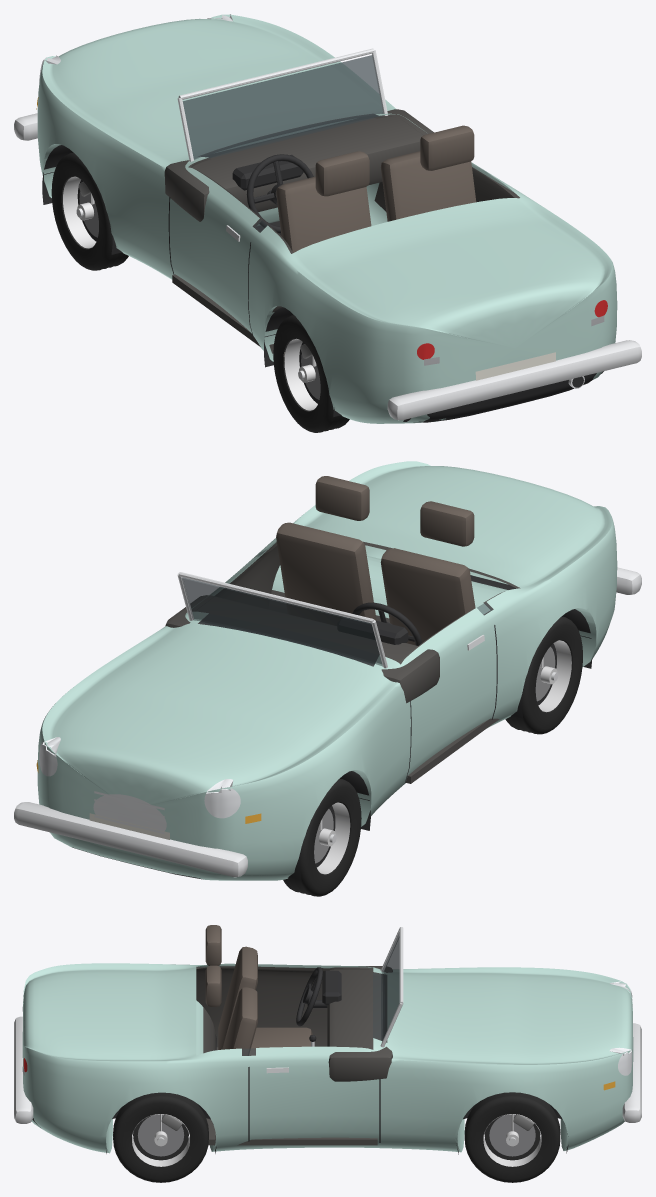
Rendered from spatz_roadster.glb.
The picture shows the model from 3 angles, top to bottom: view 1: azimuth 30°, elevation 25°; view 2: azimuth 150°, elevation 25°; view 3: azimuth 270°, elevation 25°; orthographic projection. The views are drawn at different scales.
Parts seen in each view (by area): view 1: Body, Interior, Glass, Wheel_FL, Wheel_RL, SteeringWheel; view 2: Body, Interior, Glass, Wheel_FL, Wheel_RL, Lights_Head, SteeringWheel; view 3: Body, Interior, Wheel_FR, Wheel_RR, Glass, SteeringWheel, Lights_Head.
Boxes of the visible parts, x1,y1,x2,y2 form: Body: [14, 14, 641, 423]; Interior: [164, 109, 519, 364]; Glass: [182, 55, 489, 232]; Wheel_FL: [51, 152, 128, 270]; Wheel_RL: [273, 315, 349, 432]; SteeringWheel: [246, 154, 313, 233]; Body: [14, 461, 641, 880]; Interior: [165, 476, 520, 783]; Glass: [181, 550, 492, 666]; Wheel_FL: [283, 778, 361, 896]; Wheel_RL: [505, 616, 582, 734]; Lights_Head: [39, 737, 240, 818]; SteeringWheel: [352, 602, 421, 645]; Body: [14, 927, 641, 1154]; Interior: [196, 925, 392, 1145]; Wheel_FR: [464, 1092, 560, 1182]; Wheel_RR: [113, 1092, 208, 1182]; Glass: [242, 932, 399, 1055]; SteeringWheel: [296, 967, 322, 1026]; Lights_Head: [609, 981, 632, 1075].
Size of the model in its own units: 1.59 by 1.26 by 3.93.
